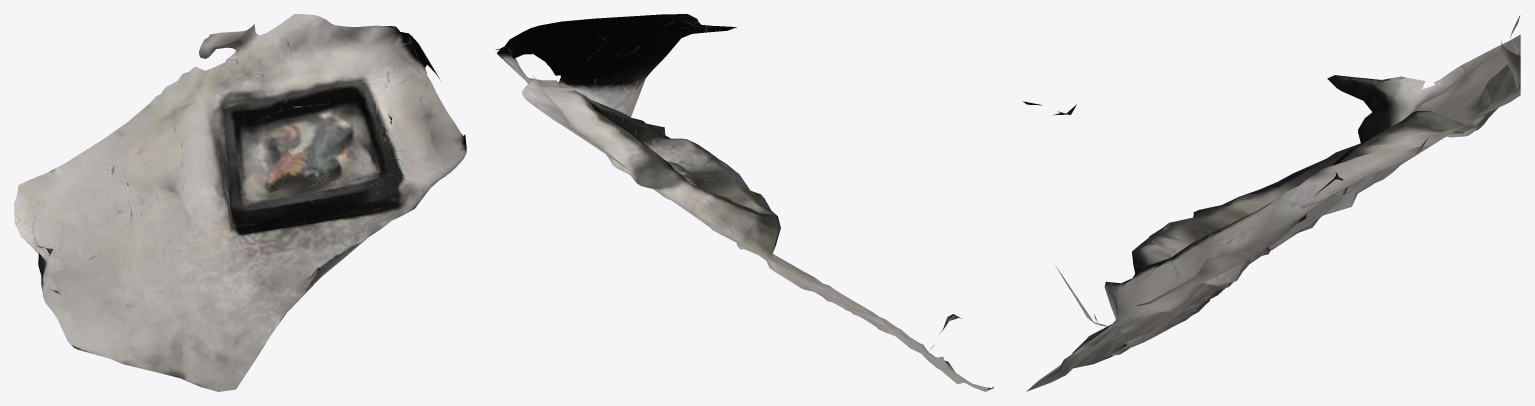
The model's file is hall.glb.
3 views of the same model, side by side, from view 1: azimuth 30°, elevation 25°; view 2: azimuth 150°, elevation 25°; view 3: azimuth 270°, elevation 25° (orthographic). The views are drawn at different scales.
Bounding box in the file's own units: 1.3 × 0.8123 × 0.7703.
1 material, 1 textured.
